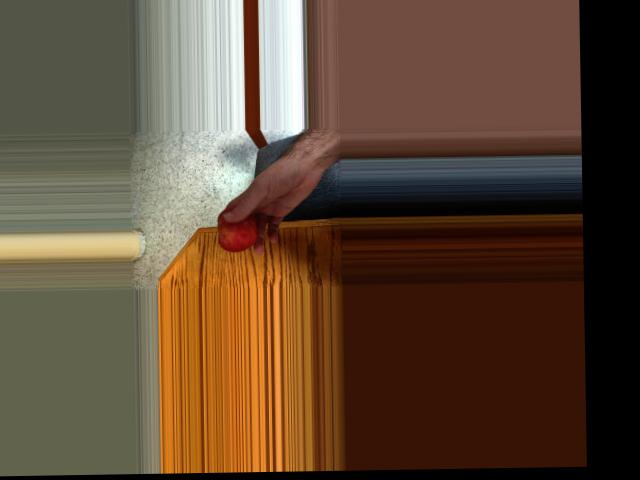apple: (213, 207, 259, 250)
